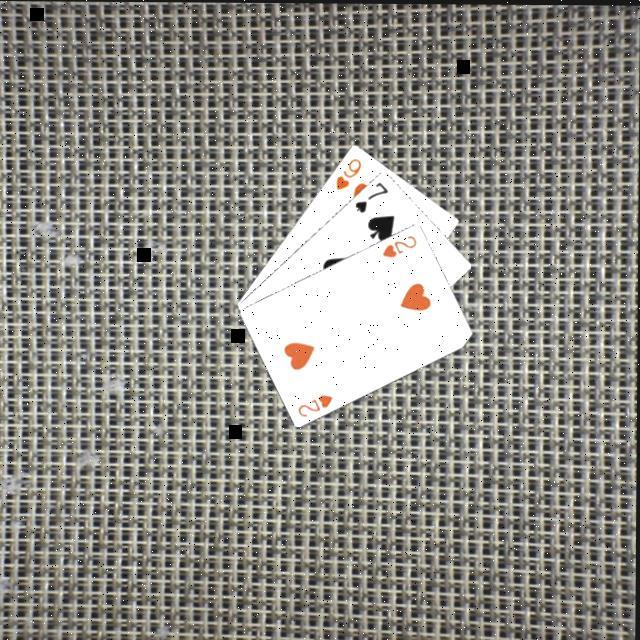2H: (381, 230, 422, 258), (297, 389, 338, 417)
7S: (353, 175, 392, 213)
9H: (335, 152, 366, 190)
